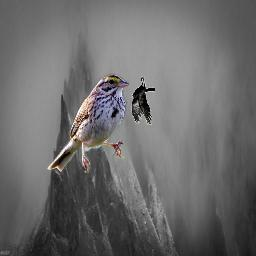Crow: (131, 75, 155, 125)
Sparrow: (47, 73, 130, 173)
